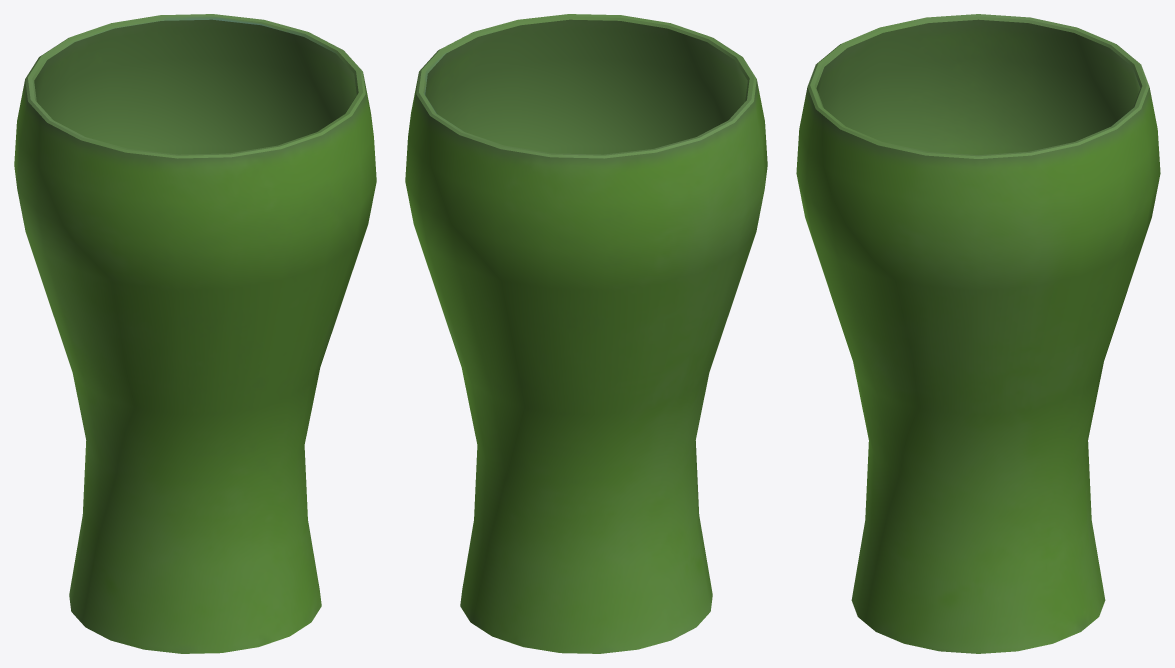
The model's file is SM_Cup4.fbx.
The picture shows the model from 3 angles, left to right: view 1: azimuth 30°, elevation 25°; view 2: azimuth 150°, elevation 25°; view 3: azimuth 270°, elevation 25°; orthographic projection.
Parts seen in each view (by area): view 1: SM_Cup4_LOD0; view 2: SM_Cup4_LOD0; view 3: SM_Cup4_LOD0.
Part boxes in pixels (x1,y1,x2,y2): SM_Cup4_LOD0: [14, 14, 376, 653]; SM_Cup4_LOD0: [405, 14, 767, 653]; SM_Cup4_LOD0: [796, 14, 1160, 653].
Bounding box in the file's own units: 8.06 × 8.06 × 12.58.
1 material, 1 textured.
